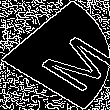M_NW: (8, 21, 102, 89)
